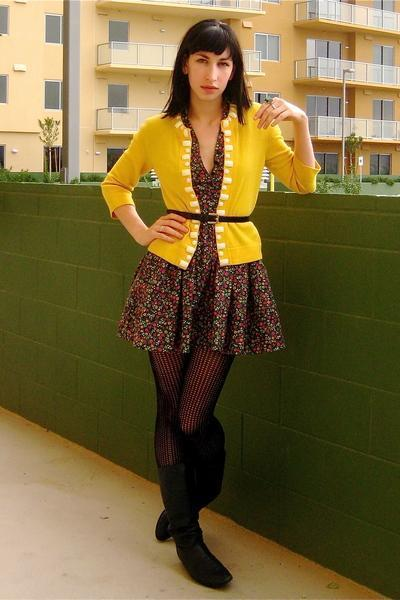dress: (118, 132, 284, 361)
jacket: (100, 108, 317, 268)
shoe: (151, 438, 232, 590)
